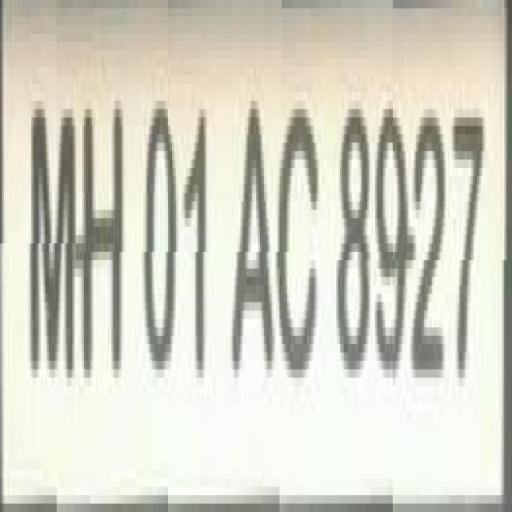number plate: (6, 0, 480, 512)
